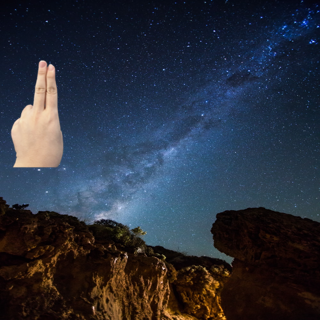DHAVE: (7, 55, 68, 166)
